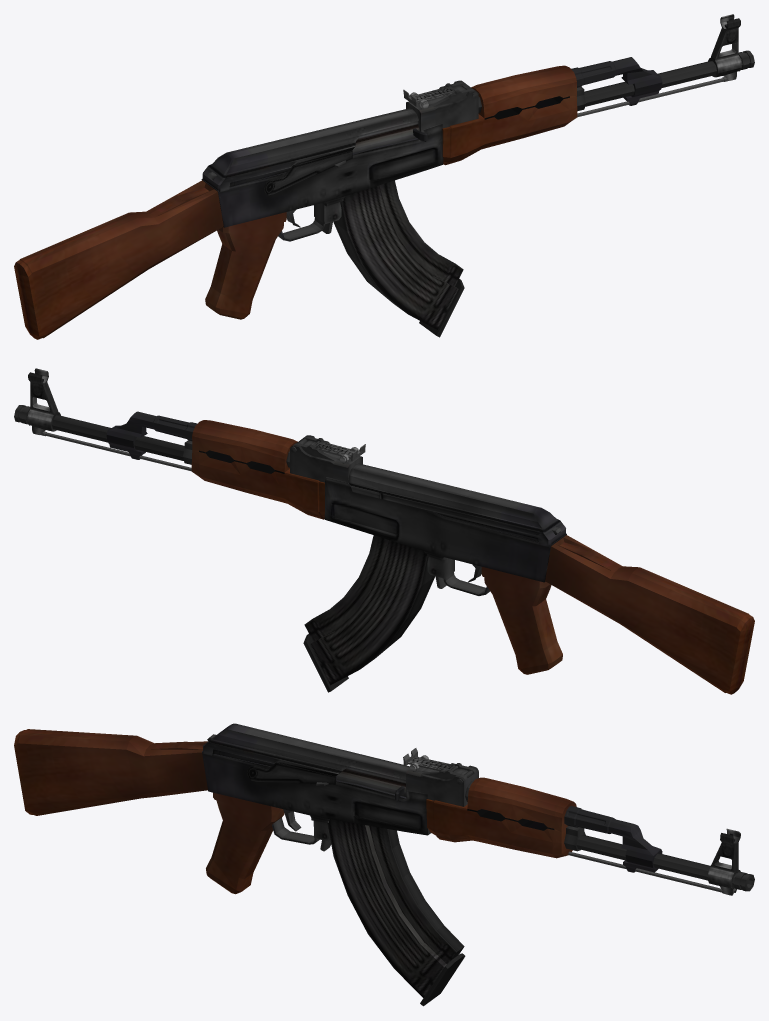
3 views of the same model, one above another, from view 1: azimuth 30°, elevation 25°; view 2: azimuth 150°, elevation 25°; view 3: azimuth 330°, elevation 25° (orthographic).
Bounding box in the file's own units: 2.5 × 0.7935 × 0.1456.
Materials: 2 (2 with a texture image).
